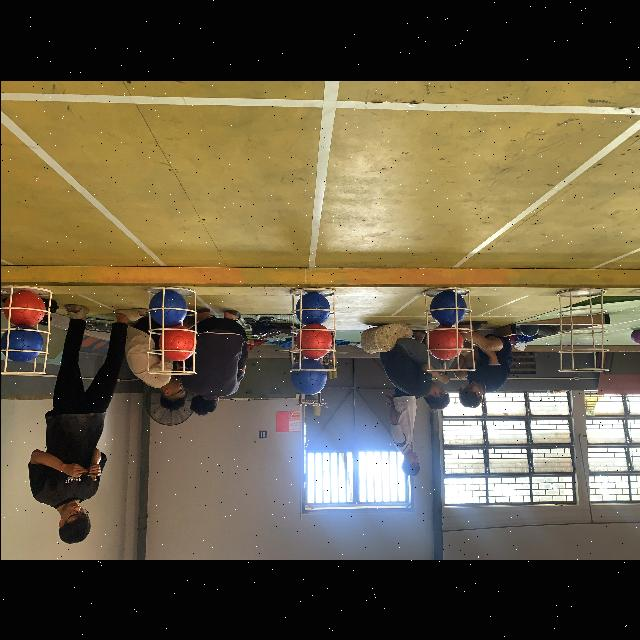B: (0, 323, 42, 361), (147, 290, 186, 324), (290, 359, 326, 395), (428, 290, 466, 324), (294, 292, 330, 326)
R: (2, 290, 46, 326), (294, 322, 332, 360), (158, 325, 196, 361), (426, 324, 462, 360)
